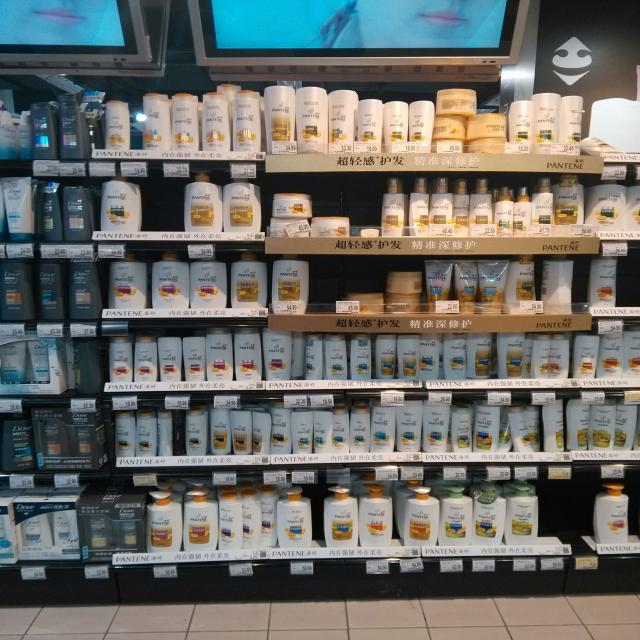void: (138, 163, 178, 243), (548, 484, 584, 560), (314, 251, 340, 326), (354, 176, 377, 244)
